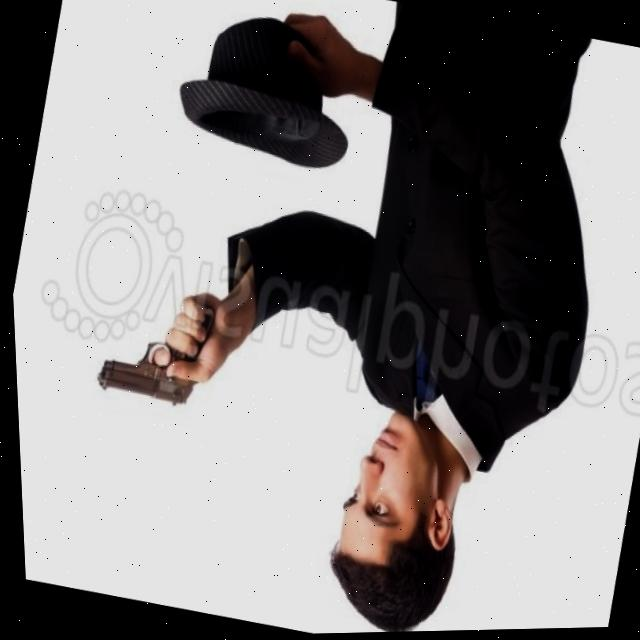pistol: (85, 328, 202, 413)
